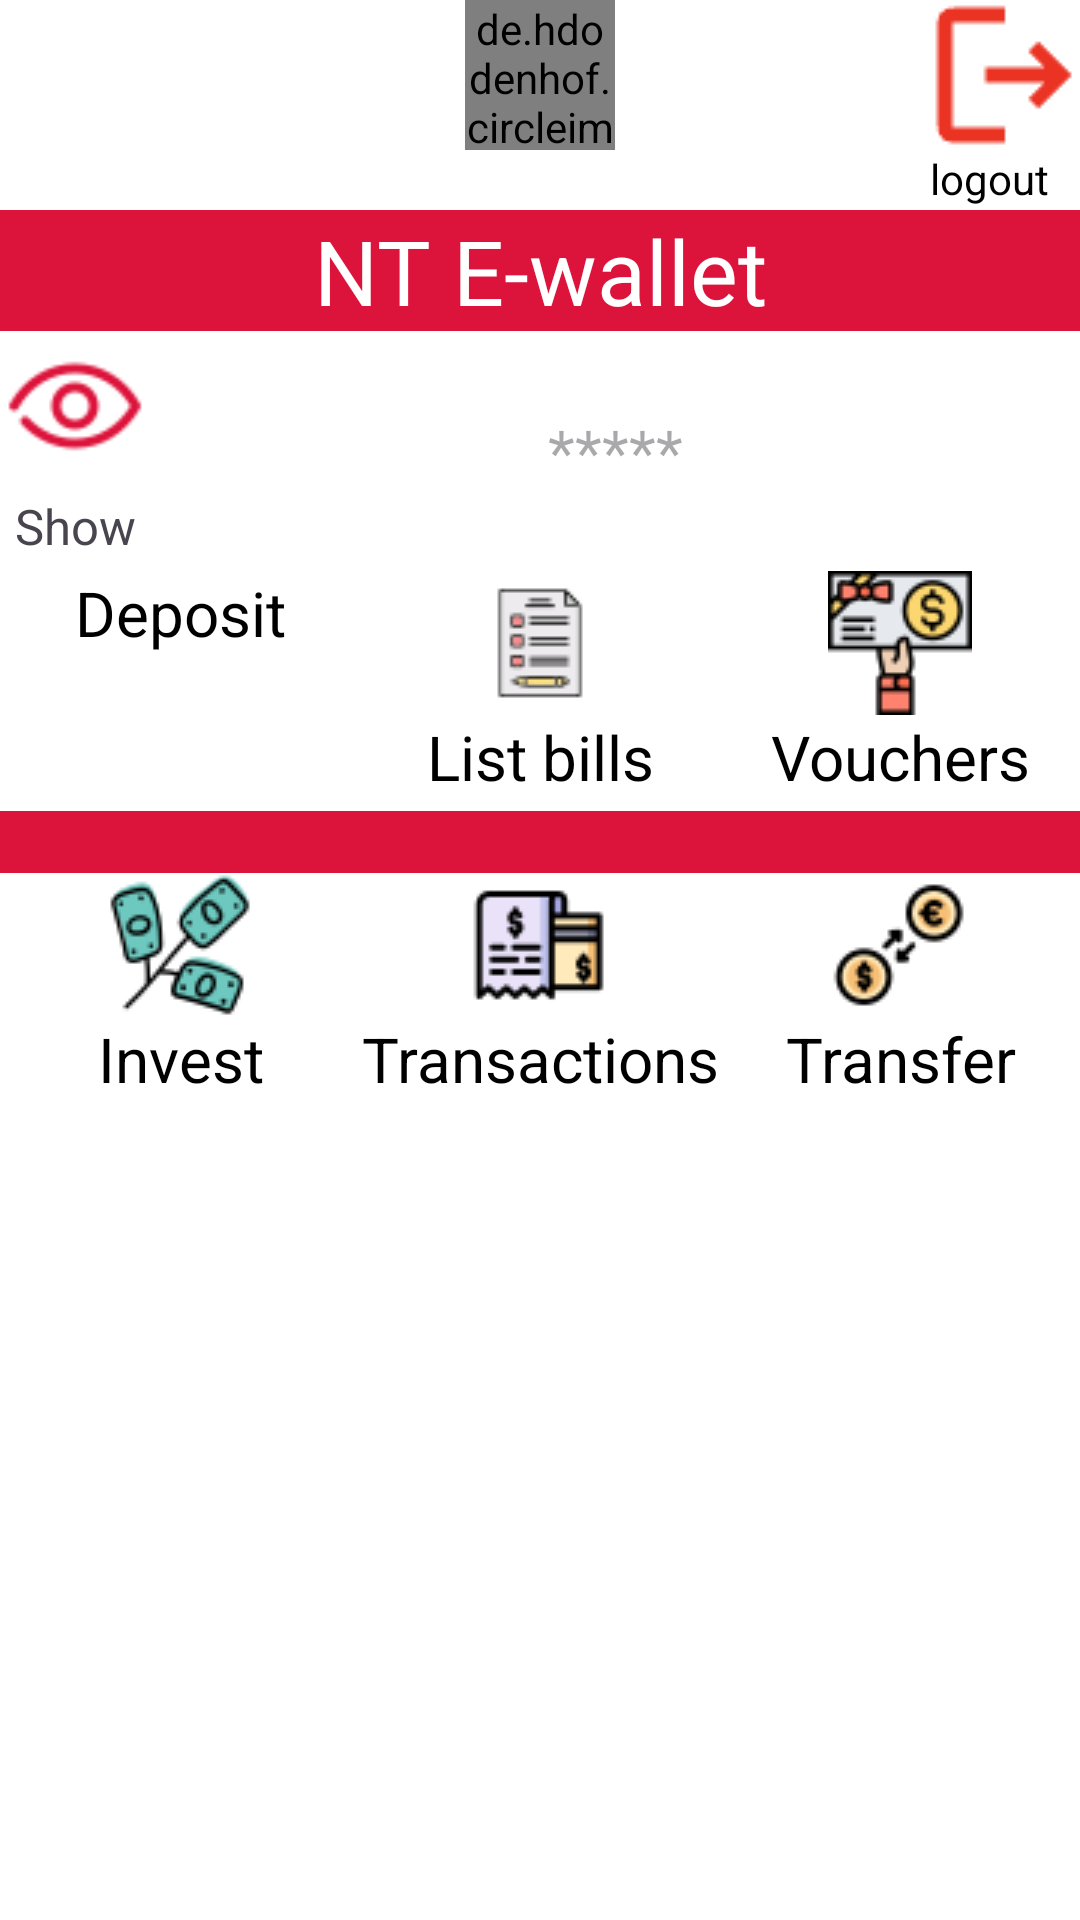

Icons on this 1080 x 1920 Android screen, each with the point to tap as [x,y]:
eye open: [75,406]
